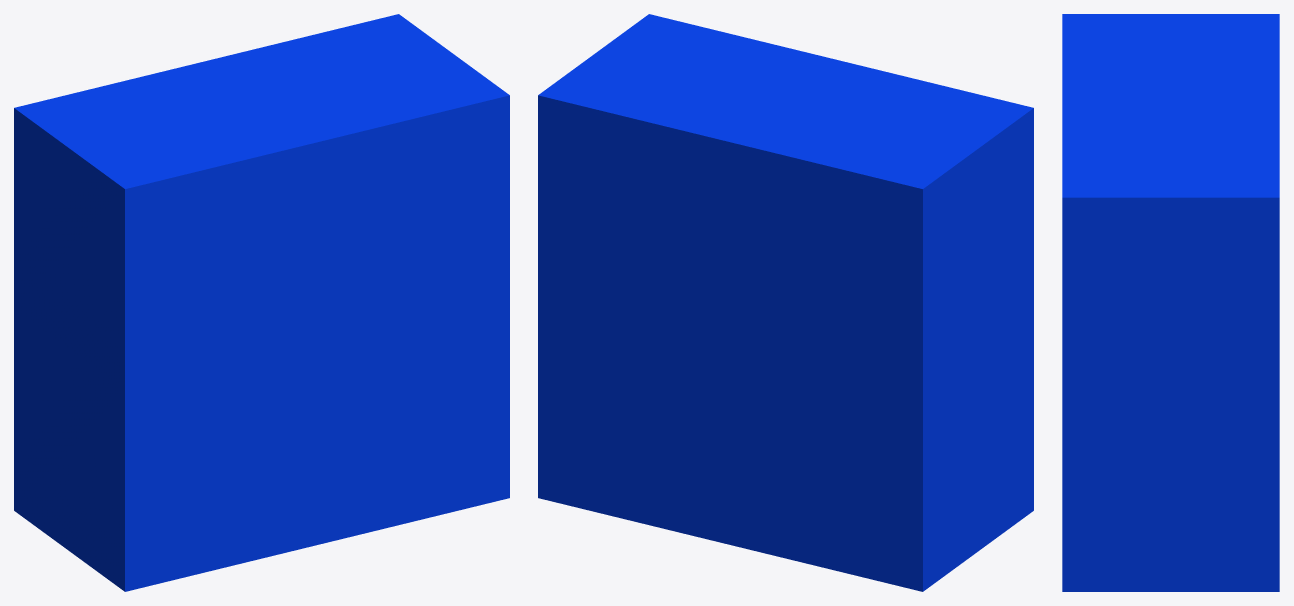
Rendered from Block_0.fbx.
The picture shows the model from 3 angles, left to right: view 1: azimuth 30°, elevation 25°; view 2: azimuth 150°, elevation 25°; view 3: azimuth 270°, elevation 25°; orthographic projection. The views are drawn at different scales.
Visible parts, largest first — view 1: pCube5; view 2: pCube5; view 3: pCube5.
Boxes of the visible parts, left/top/right/bottom form: pCube5: left=14, top=14, right=509, bottom=591; pCube5: left=538, top=14, right=1033, bottom=591; pCube5: left=1062, top=14, right=1279, bottom=591.
Size of the model in its own units: 2 by 2 by 1.
